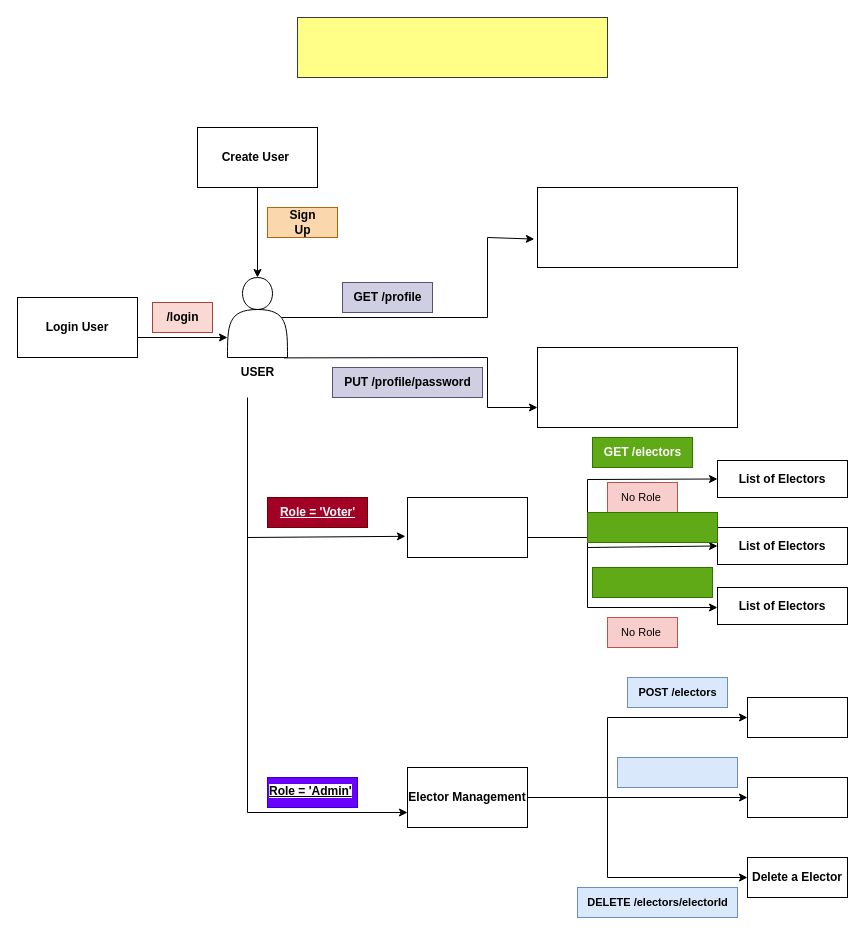
This 865x935 diagram has some shape labels left out. The shapes that lost their labels are listed below. From the top down, each one's centre as x and y in pixels, then its label:
At point 452,47: "VOTING APPLICATION PROJECT".
At point 637,227: "Access is Profile".
At point 637,387: "Change Password".
At point 467,527: "Vote".
At point 652,527: "POST /vote/:electorId".
At point 652,582: "GET /vote/count".
At point 797,717: "Create New Elector".
At point 677,772: "PUT /vote/:electorId".
At point 797,797: "Update existing Elector".
